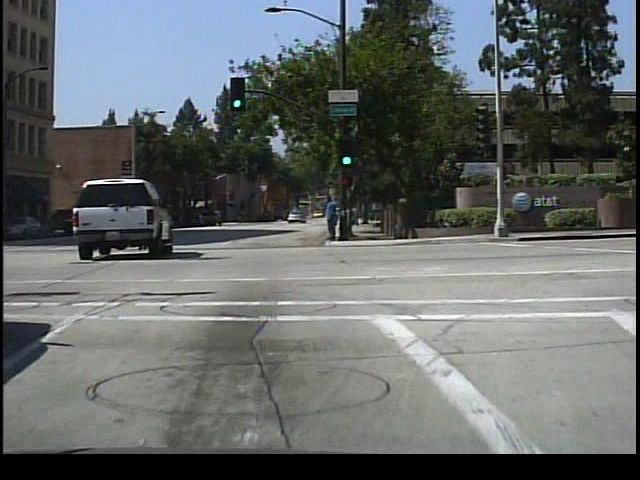person: (319, 189, 340, 242), (327, 194, 344, 240)
